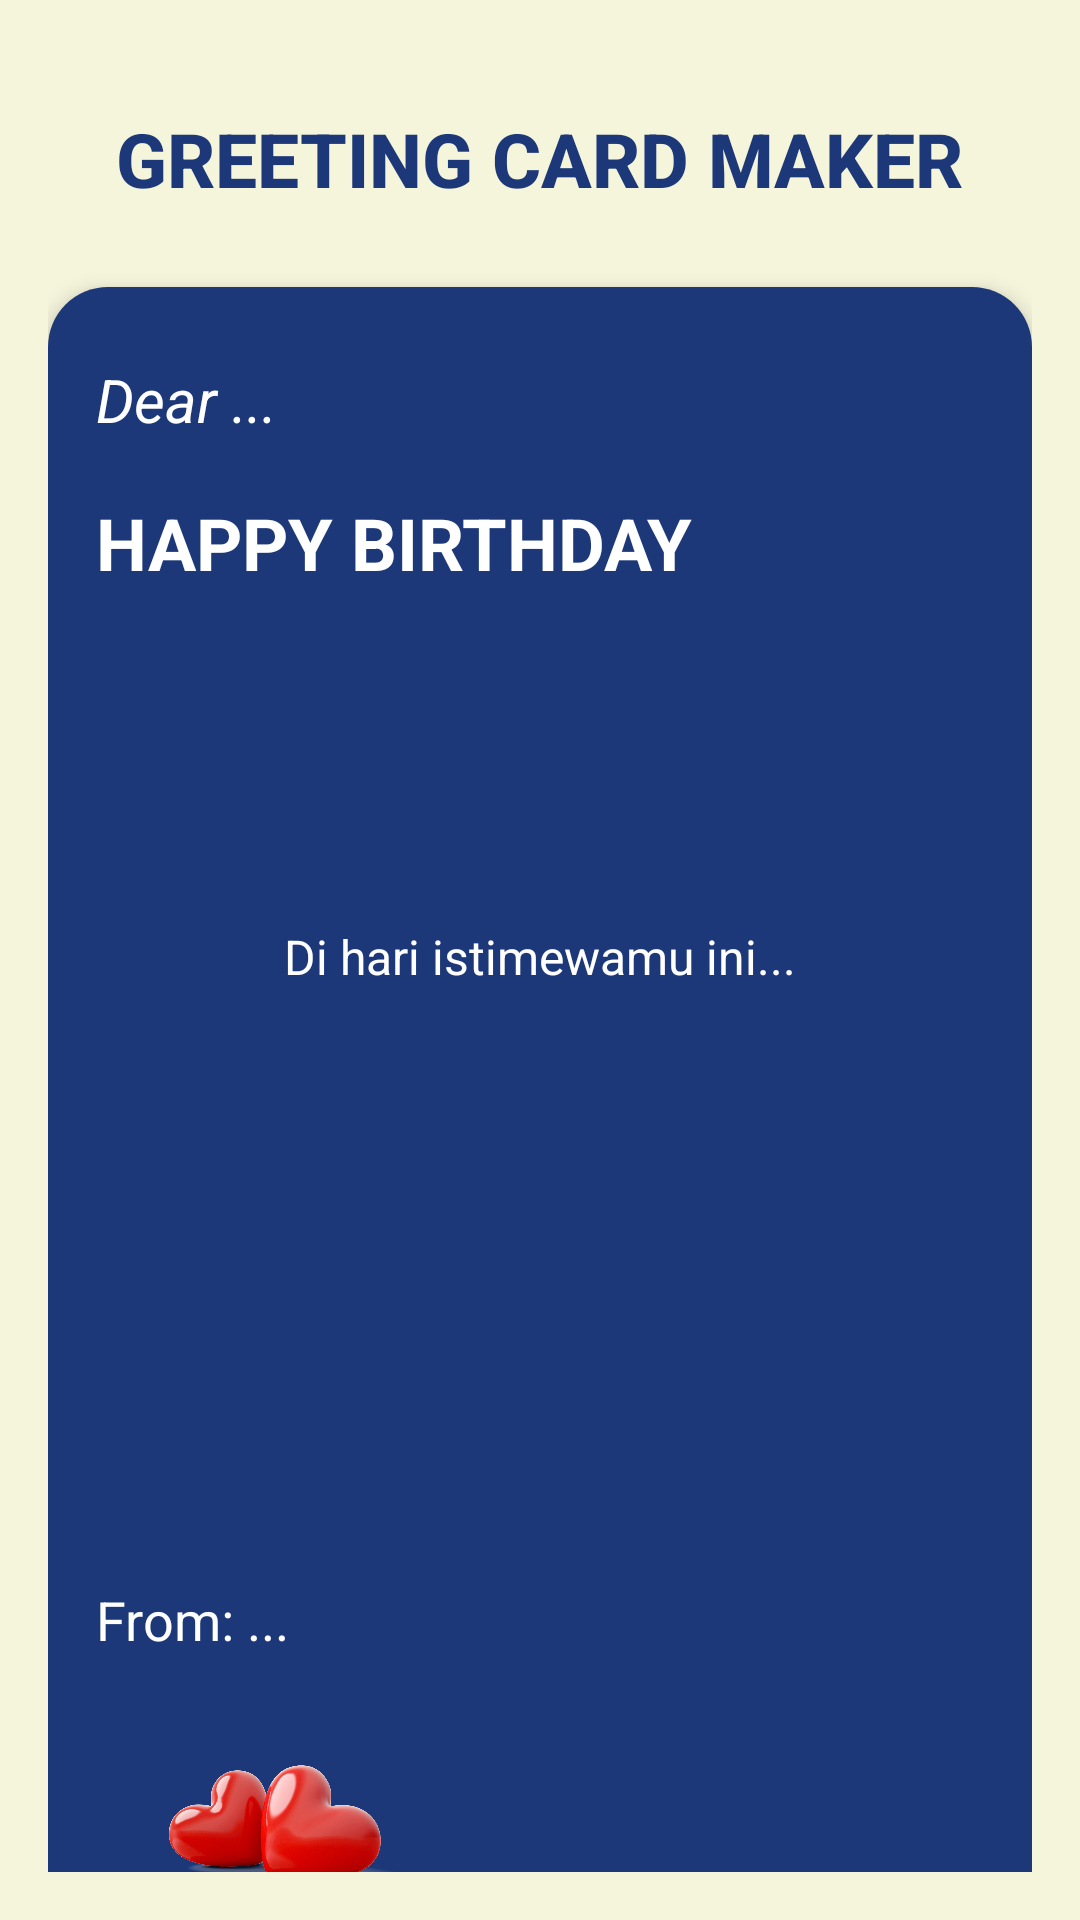

Icons on this 1080 × 1920 Android screen, each with the point to tap as (x=x, y=y):
love: (x=271, y=1842)
